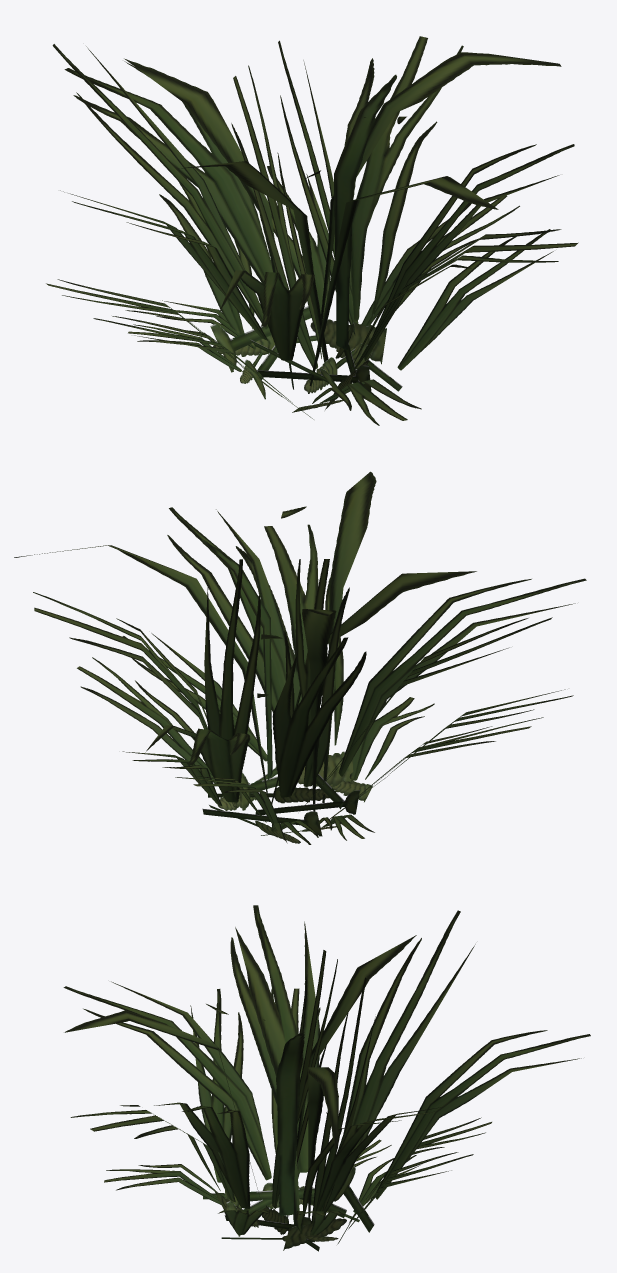
Rendered from Cao3.FBX.
The picture shows the model from 3 angles, top to bottom: view 1: azimuth 30°, elevation 25°; view 2: azimuth 150°, elevation 25°; view 3: azimuth 270°, elevation 25°; orthographic projection. The views are drawn at different scales.
Visible parts, largest first — view 1: cao2; view 2: cao2; view 3: cao2.
Boxes of the visible parts, x1,y1,x2,y2 form: cao2: (46, 36, 578, 425); cao2: (14, 471, 586, 844); cao2: (63, 905, 590, 1251).
Size of the model in its own units: 2.26 by 1.23 by 2.5.
